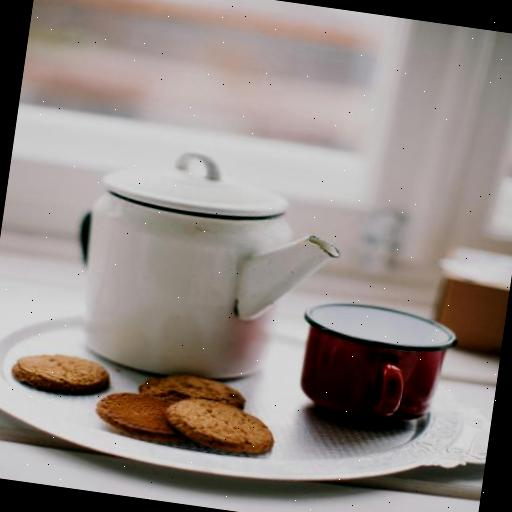cup: (290, 296, 458, 433)
